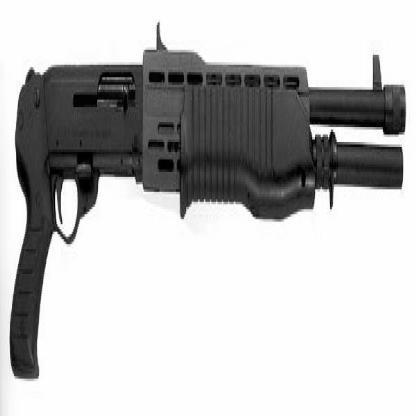gun: (1, 7, 415, 413)
